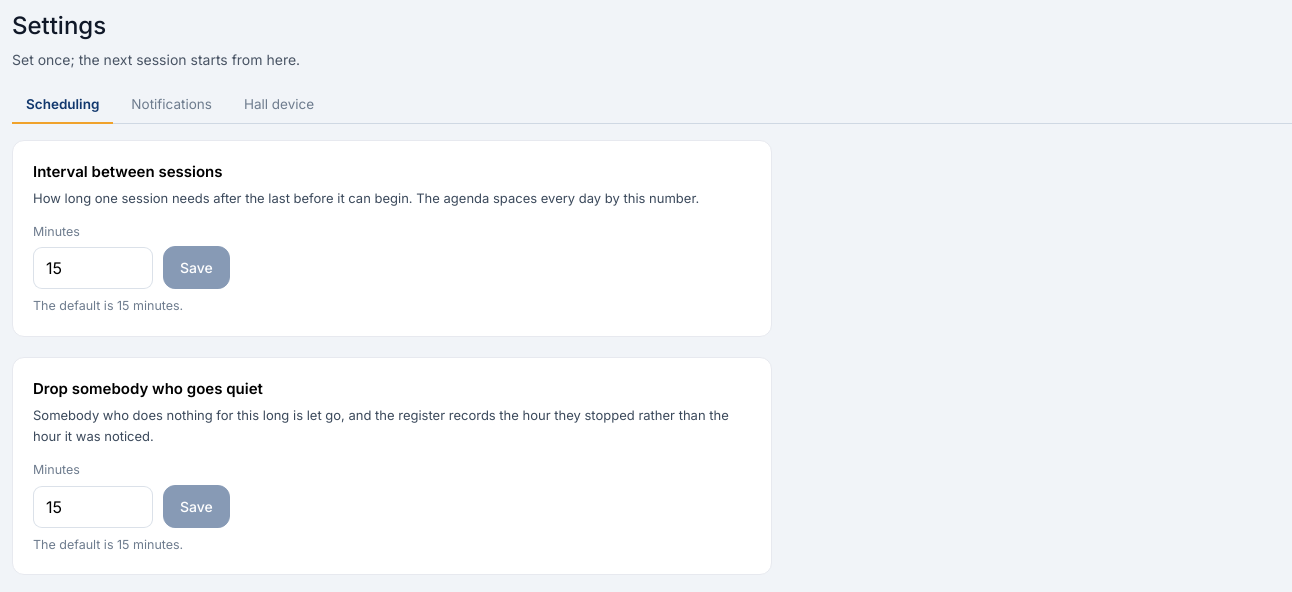
how much warning a programme gives › will not save something that is not a number of minutes
Click the tab "Notifications": (172, 105) [117,86,226,124]
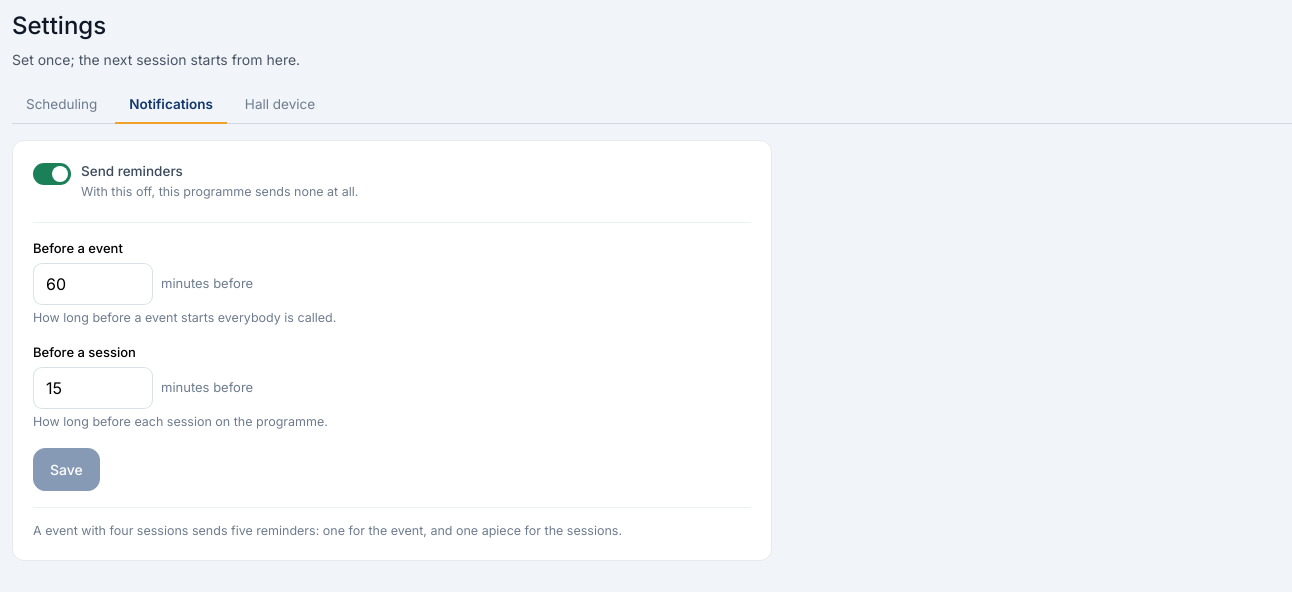
Replace the text in the number field labelled "Before a event" with "9999": (93, 284) [33,262,153,304]
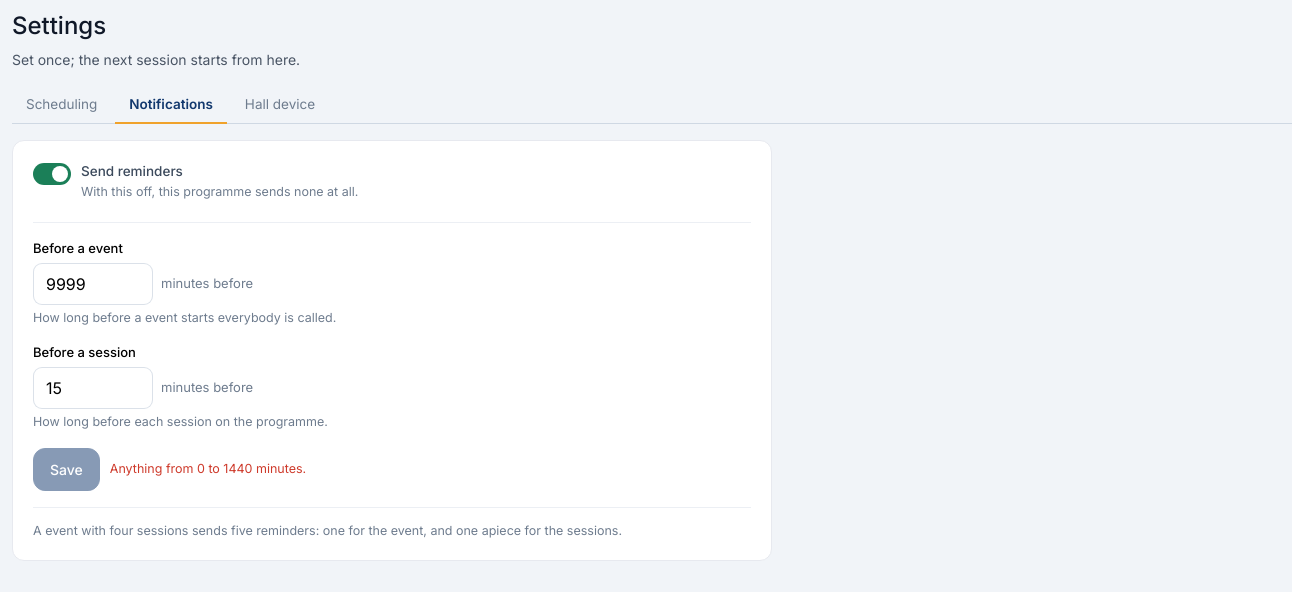
Expected: the button "Save" is disabled, [33,448,100,490]
Expected: the text "Anything from 0 to 1440 minutes." is shown, [110,460,306,478]
